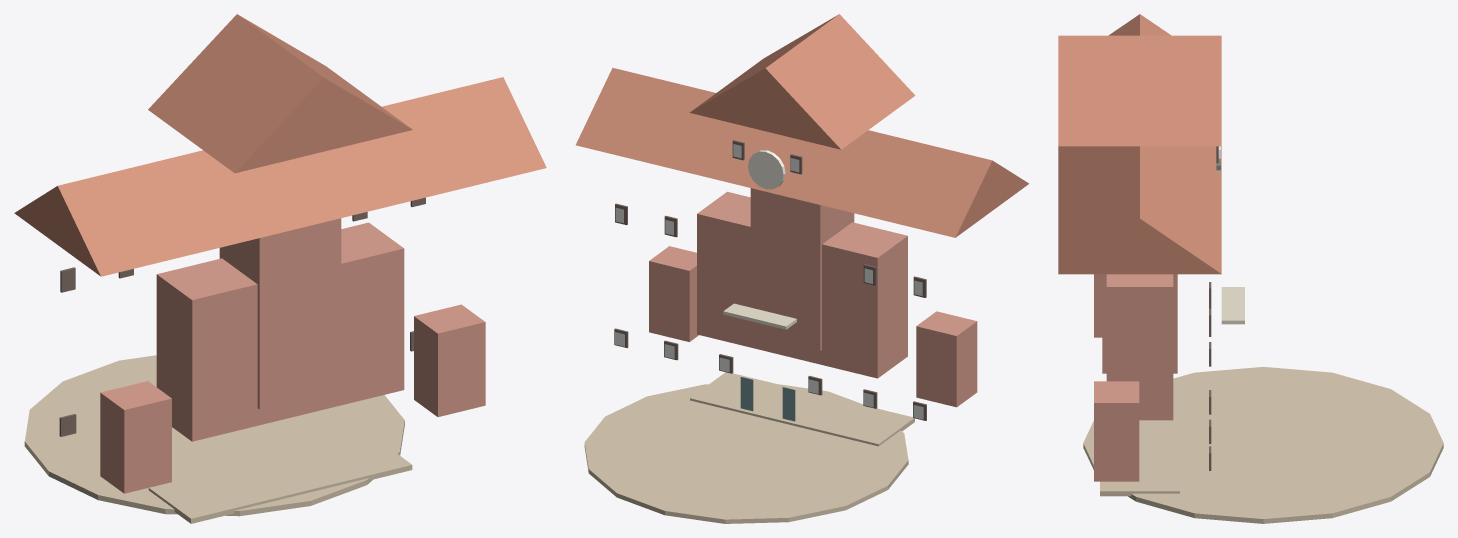
Rendered from ravnbro-station.glb.
3 renders of one model, left to right at view 1: azimuth 30°, elevation 25°; view 2: azimuth 150°, elevation 25°; view 3: azimuth 270°, elevation 25°, orthographic. The views are drawn at different scales.
Visible parts, largest first — view 1: wing_roof, wing, hall_roof, forecourt, hall, plinth, bay_-2.55, bay_2.55; view 2: forecourt, wing_roof, wing, hall_roof, hall, plinth, bay_-2.55, bay_2.55, clock, canopy; view 3: forecourt, wing_roof, hall_roof, wing, bay_2.55, plinth, hall, canopy, bay_-2.55.
Part boxes in pixels (bbox=[...]): wing_roof: bbox=[14, 77, 546, 276]; wing: bbox=[156, 222, 404, 441]; hall_roof: bbox=[148, 14, 412, 173]; forecourt: bbox=[24, 355, 404, 516]; hall: bbox=[219, 218, 341, 409]; plinth: bbox=[148, 433, 412, 523]; bay_-2.55: bbox=[100, 381, 171, 493]; bay_2.55: bbox=[414, 304, 485, 416]; forecourt: bbox=[584, 384, 908, 523]; wing_roof: bbox=[576, 67, 1028, 237]; wing: bbox=[697, 191, 907, 378]; hall_roof: bbox=[690, 14, 915, 149]; hall: bbox=[750, 188, 854, 350]; plinth: bbox=[690, 372, 914, 446]; bay_-2.55: bbox=[916, 311, 977, 407]; bay_2.55: bbox=[649, 246, 698, 341]; clock: bbox=[748, 150, 785, 189]; canopy: bbox=[723, 303, 796, 329]; forecourt: bbox=[1083, 367, 1443, 523]; wing_roof: bbox=[1058, 14, 1221, 274]; hall_roof: bbox=[1058, 35, 1221, 146]; wing: bbox=[1106, 274, 1173, 420]; bay_2.55: bbox=[1094, 381, 1139, 481]; plinth: bbox=[1100, 389, 1179, 496]; hall: bbox=[1102, 274, 1177, 373]; canopy: bbox=[1221, 287, 1244, 324]; bay_-2.55: bbox=[1094, 274, 1102, 337].
Bounding box in the file's own units: 7.25 × 6.81 × 5.78.
